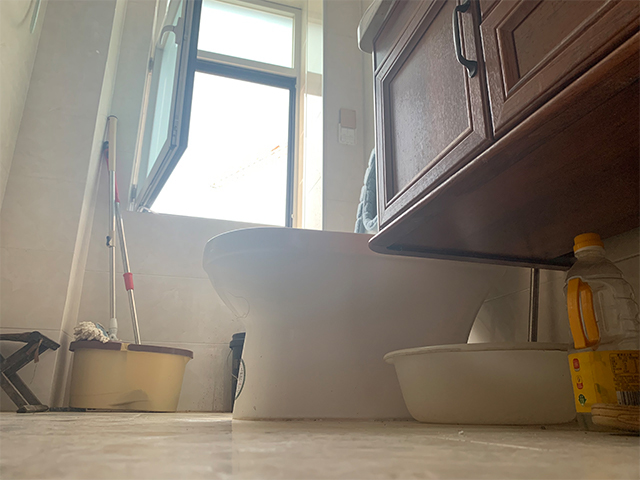closestool: (200, 143, 496, 424)
stool: (1, 330, 62, 414)
